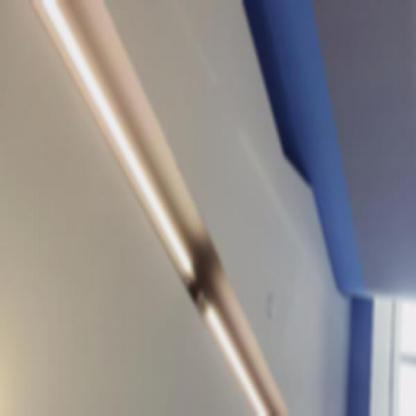light_on: (30, 0, 201, 290), (194, 284, 271, 414)
